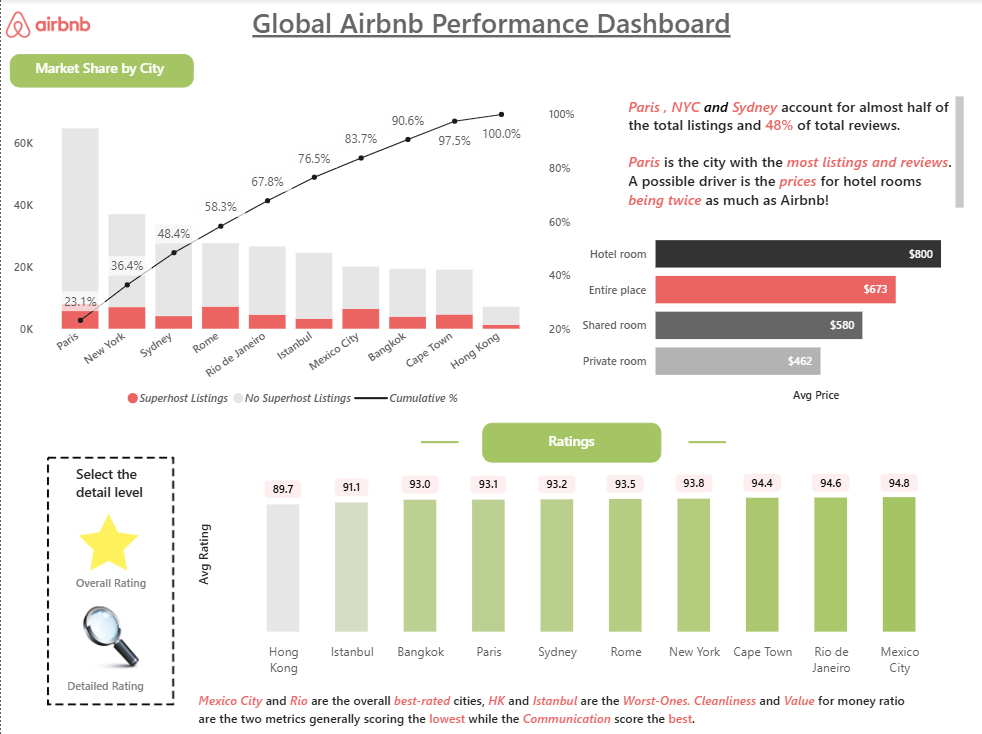

What the dashboard file says about the page in this screenshot:
{"tool":"powerbi","page":{"name":"Ratings","canvas":[960,720],"ordinal":1},"visuals":[{"type":"textbox","box":[240.9,0,478.1,51.4],"z":0},{"type":"image","box":[68.5,500.1,73.4,62.4],"z":0,"group":"g1"},{"type":"image","box":[72.1,594.3,69.7,63.6],"z":0,"group":"g2"},{"type":"image","box":[0,12.2,91.7,25.7],"z":1000},{"type":"textbox","box":[68.5,556.4,106.4,28.1],"z":1000,"group":"g1"},{"type":"textbox","box":[59.9,656.7,106.4,28.1],"z":1000,"group":"g2"},{"type":"textbox","box":[8.1,54.3,179.8,33],"z":2000},{"type":"lineStackedColumnComboChart","fields":{"Category":["Listings.city"],"Y":["Listings.Superhost Listings","Listings.No Superhost Listings"],"Y2":["Listings.Cumulative %"]},"box":[7.3,97.1,560.1,311.8],"z":3000},{"type":"barChart","fields":{"Category":["Listings.room_type"],"Y":["Listings.Avg Price"]},"box":[562.5,209.1,397.4,189.5],"z":4000},{"type":"textbox","box":[609,90.5,337.5,119.1],"z":5000},{"type":"textbox","box":[470.8,414.5,174.9,39.1],"z":6000},{"type":"shape","box":[410.9,409.6,36.7,47.7],"z":7000},{"type":"shape","box":[672.6,409.6,36.7,47.7],"z":8000},{"type":"image","box":[7.3,439,199.3,260.5],"z":9000},{"type":"textbox","box":[68.5,450,88,50.1],"z":10000},{"type":"pivotTable","fields":{"Rows":["Listings.city"],"Values":["Listings.Accuracy","Listings.Clanliness","Listings.Communication","Listings.Location","Listings.Value"]},"box":[188.3,457.3,739.8,221.3],"z":12000},{"type":"group","id":"g1","title":"Star ","box":[68.5,500.1,106.4,84.4],"z":13000},{"type":"group","id":"g2","title":"Magnifier","box":[59.9,594.3,106.4,90.5],"z":14000},{"type":"textbox","box":[188.3,671.3,706.8,48.9],"z":15000}]}

Visuals, with their boxes in screenshot pixels (x1, y1, x2, y2), scaled from the page's 960x720 canvas onto the 982x734 screenshot:
textbox: select_region(246, 0, 735, 52)
image: select_region(70, 510, 145, 573)
image: select_region(74, 606, 145, 671)
image: select_region(0, 12, 94, 39)
textbox: select_region(70, 567, 179, 596)
textbox: select_region(61, 669, 170, 698)
textbox: select_region(8, 55, 192, 89)
lineStackedColumnComboChart - Listings.city x Listings.Superhost Listings: select_region(7, 99, 580, 417)
barChart - Listings.room_type x Listings.Avg Price: select_region(575, 213, 981, 406)
textbox: select_region(623, 92, 968, 214)
textbox: select_region(482, 423, 660, 462)
shape: select_region(420, 418, 458, 466)
shape: select_region(688, 418, 726, 466)
image: select_region(7, 448, 211, 713)
textbox: select_region(70, 459, 160, 510)
pivotTable - Listings.city x Listings.Accuracy: select_region(193, 466, 949, 692)
"Star " group: select_region(70, 510, 179, 596)
"Magnifier" group: select_region(61, 606, 170, 698)
textbox: select_region(193, 684, 916, 733)
